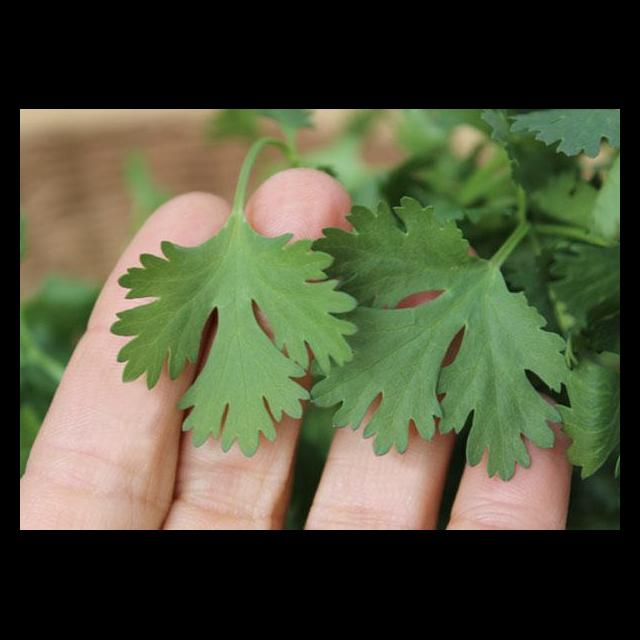cilantro: (325, 196, 564, 482), (127, 235, 345, 450)
